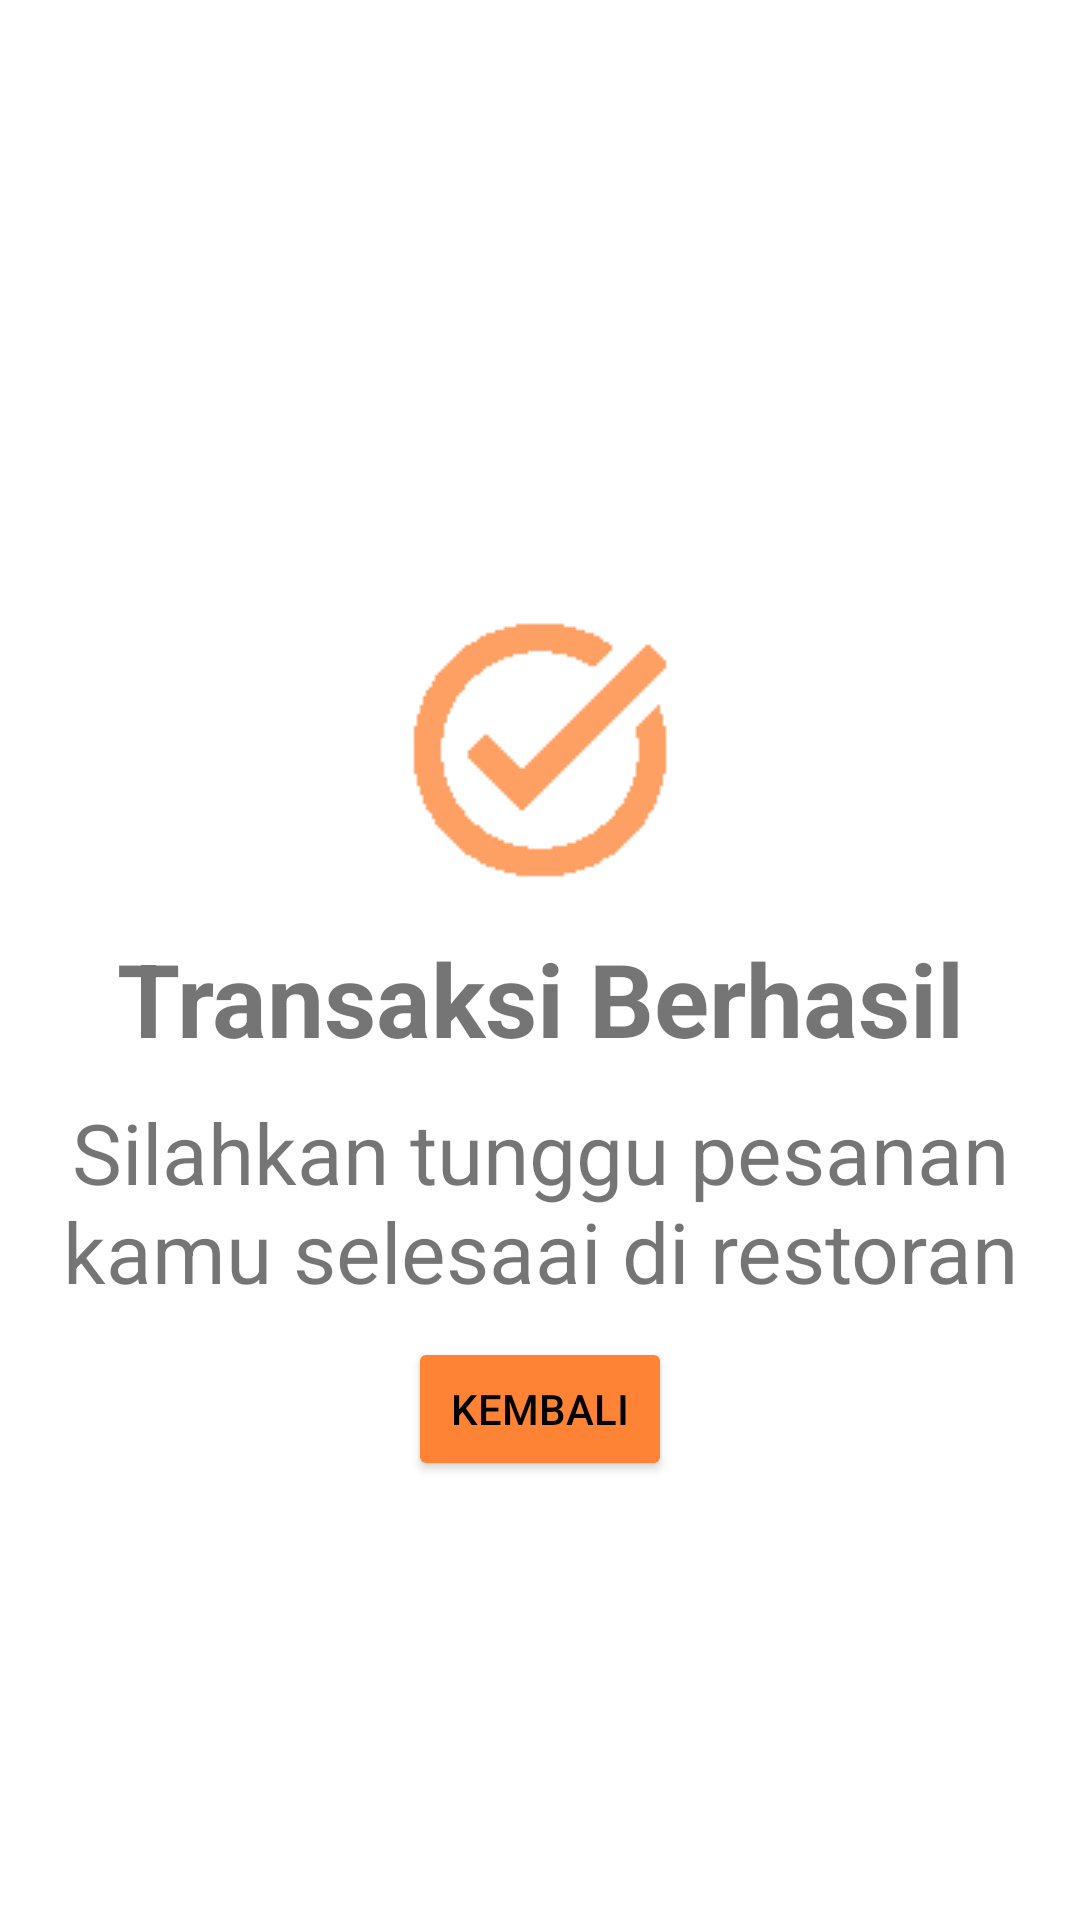

Named icons in this screenshot (1080x1920) and their centers, [x,y]:
task: [540,750]
